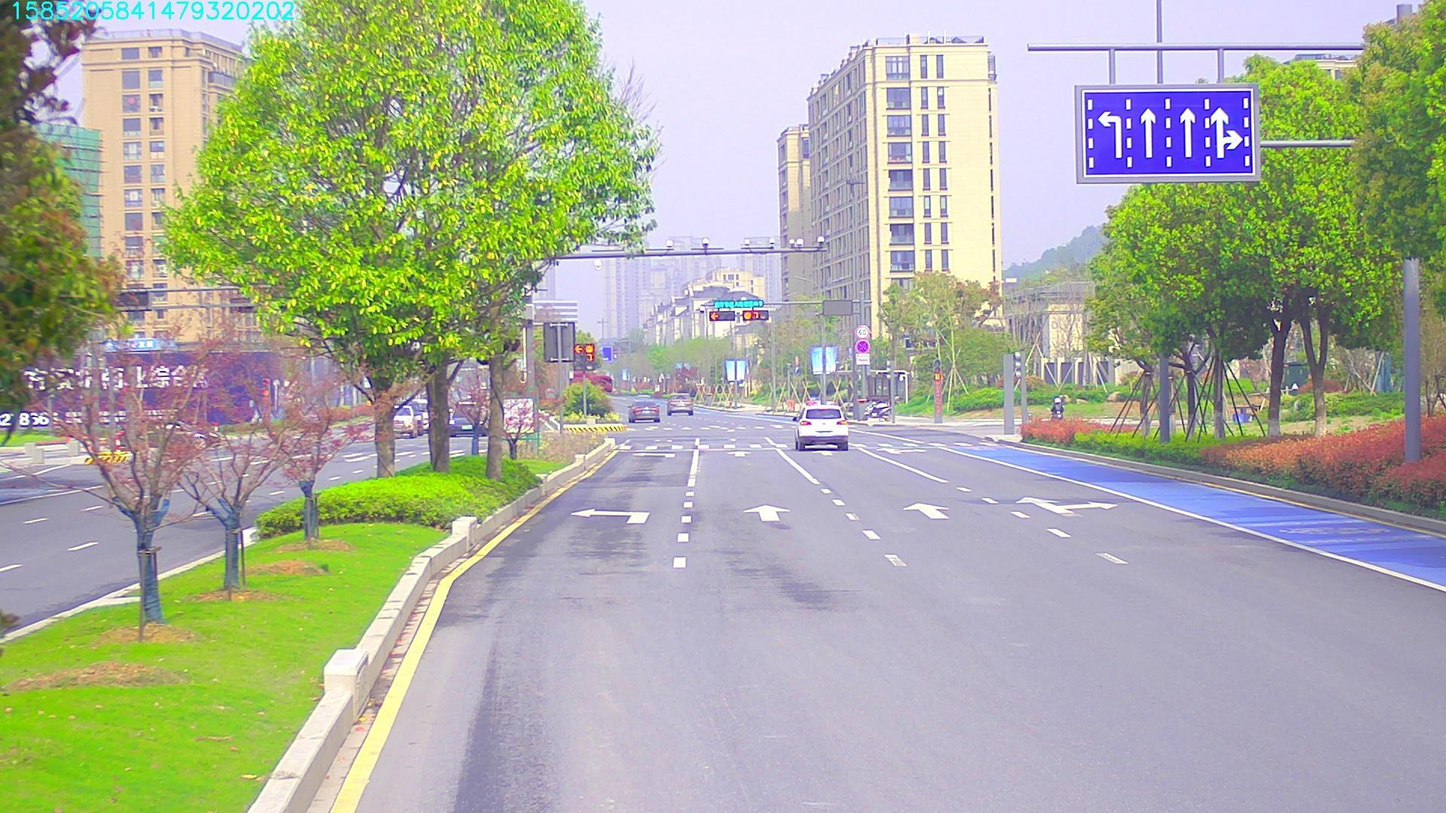red: (709, 308, 737, 324), (744, 309, 769, 322)
wait_on: (712, 297, 762, 312)
